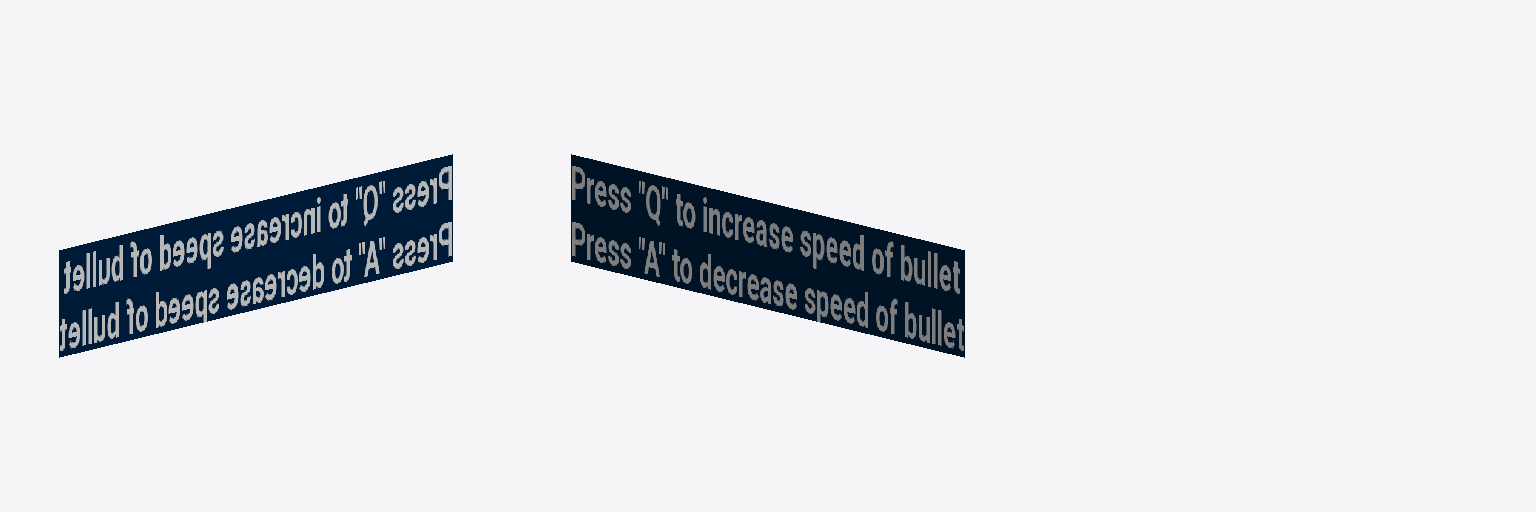
The picture shows the model from 3 angles: view 1: azimuth 30°, elevation 25°; view 2: azimuth 150°, elevation 25°; view 3: azimuth 270°, elevation 25°; orthographic projection.
Parts seen in each view (by area): view 1: Sphere; view 2: Sphere; view 3: none.
Part boxes in pixels (x1,y1,x2,y2): Sphere: (59, 154, 452, 357); Sphere: (571, 154, 964, 357).
Bounding box in the file's own units: 2 × 0.52 × 0.
1 materials, 1 textured.